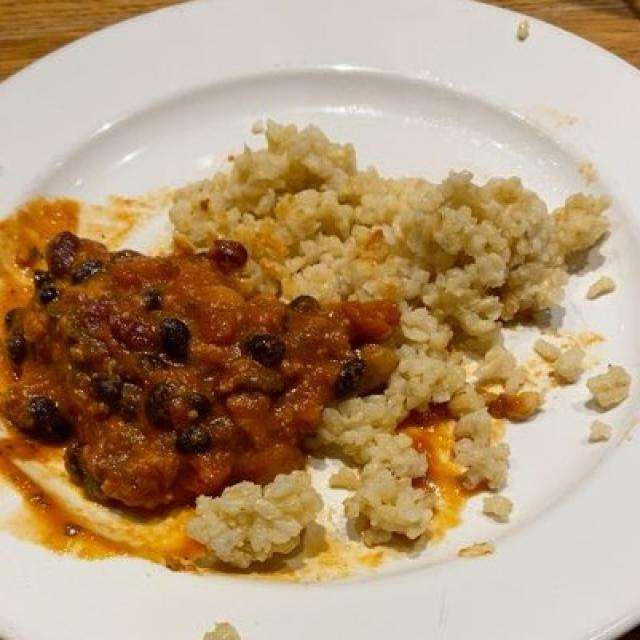chili-con-carne-prepared: (4, 224, 396, 519)
rice-whole-grain: (178, 113, 604, 573)
